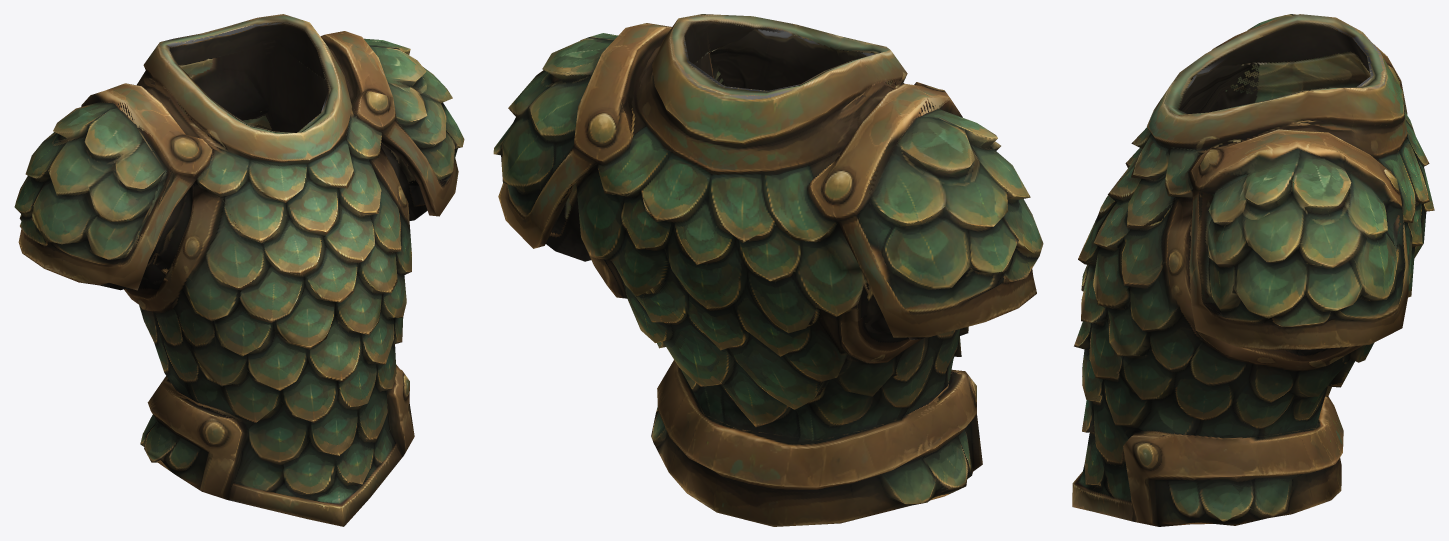
Rendered from Item_ArmorScale.fbx.
3 views of the same model, side by side, from view 1: azimuth 30°, elevation 25°; view 2: azimuth 150°, elevation 25°; view 3: azimuth 270°, elevation 25° (orthographic). The views are drawn at different scales.
Visible parts, largest first — view 1: texture_mapping; view 2: texture_mapping; view 3: texture_mapping.
Boxes of the visible parts, box(x1,y1,x2,y2) form: texture_mapping: box(14, 14, 464, 526); texture_mapping: box(493, 14, 1043, 526); texture_mapping: box(1072, 14, 1434, 526).
Size of the model in its own units: 1 by 0.6708 by 0.9278.
Materials: 1 (1 with a texture image).
